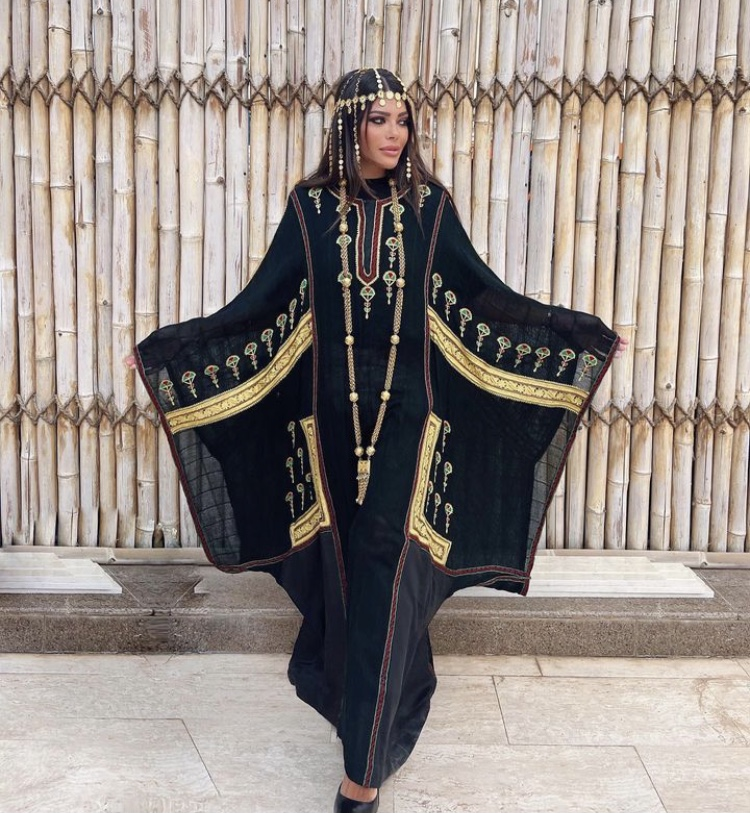Saudi_Founding_Day: (119, 64, 630, 811)
